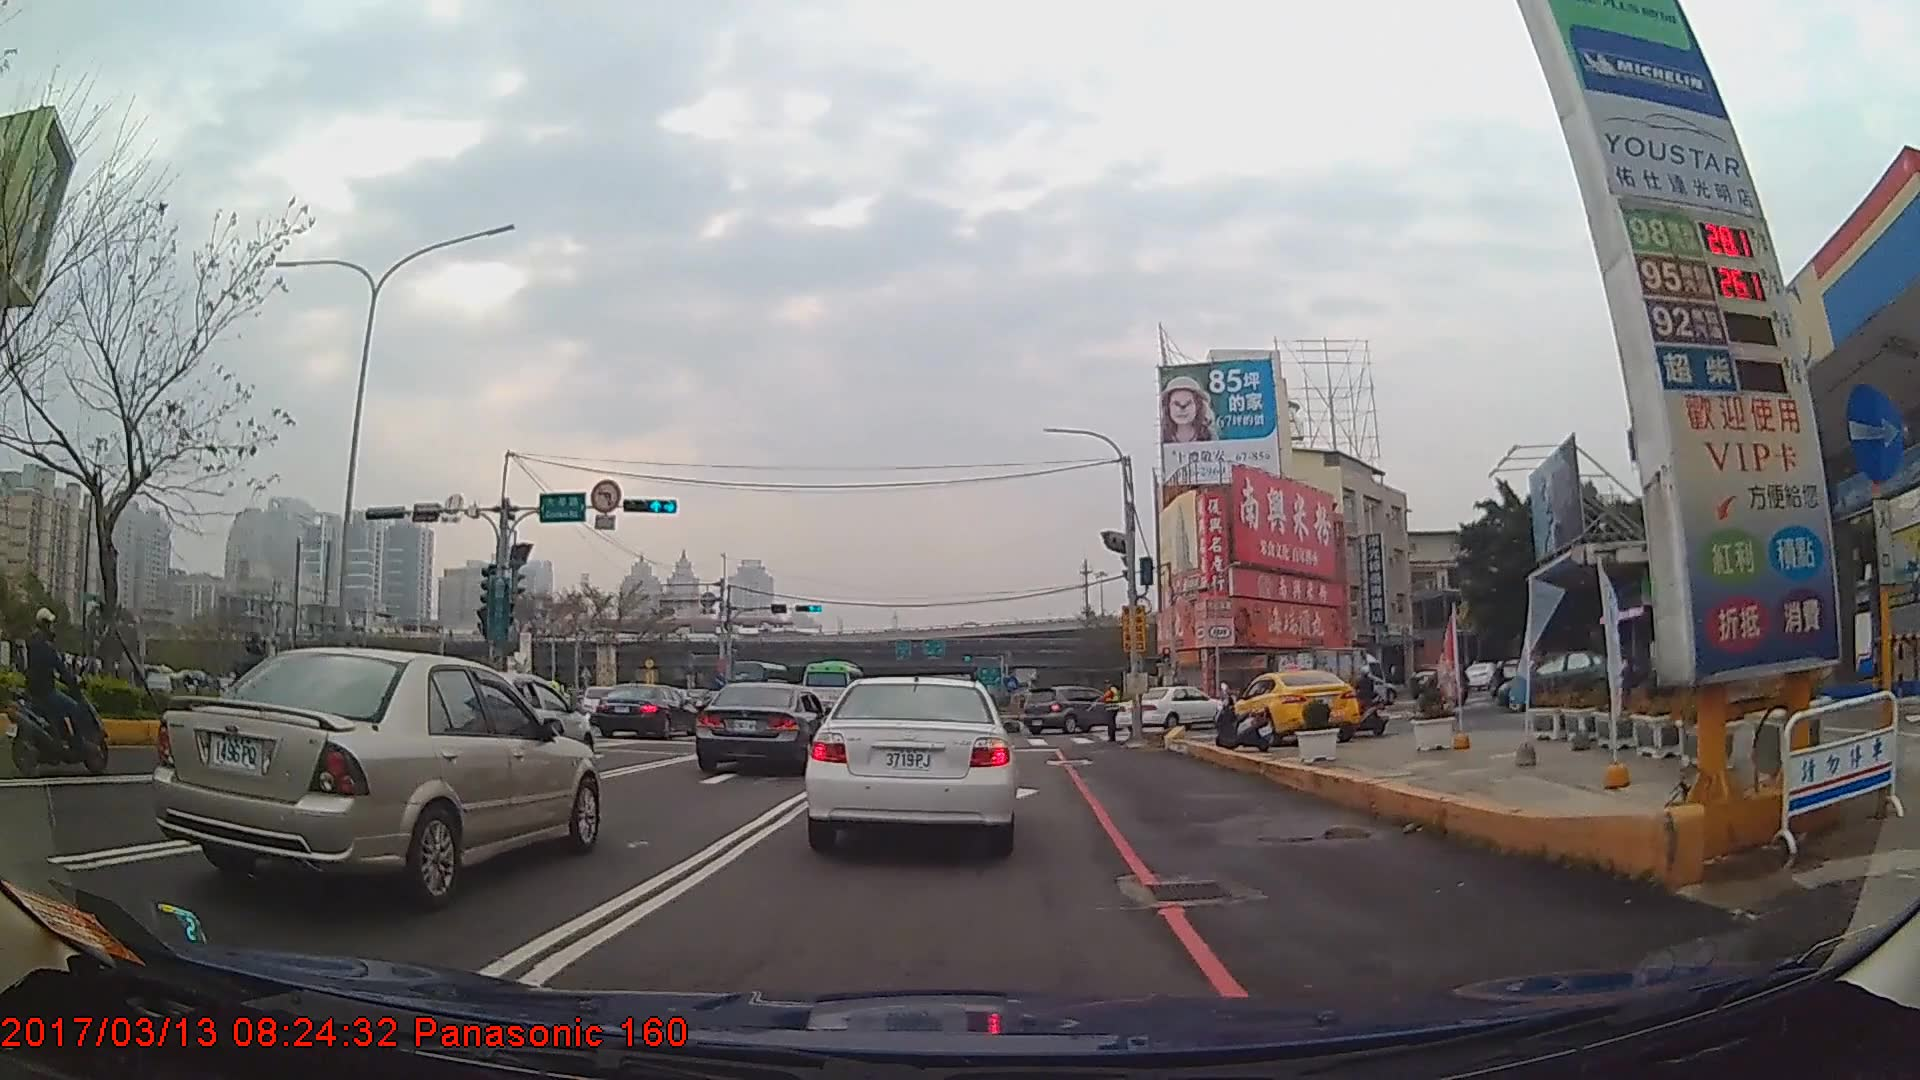pedestrian: (1090, 680, 1118, 744)
rider: (12, 609, 104, 780), (1346, 665, 1388, 738), (1426, 658, 1452, 721)
vehicle: (153, 644, 603, 906), (807, 666, 1017, 853), (690, 679, 829, 774), (1226, 666, 1360, 744), (1268, 644, 1385, 713), (593, 680, 693, 734), (1115, 681, 1226, 729), (1020, 682, 1125, 730), (798, 658, 865, 715)
